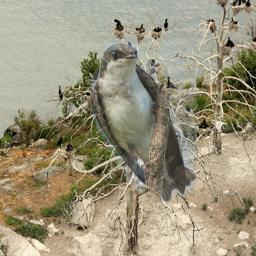Swallow: (90, 43, 197, 204)
